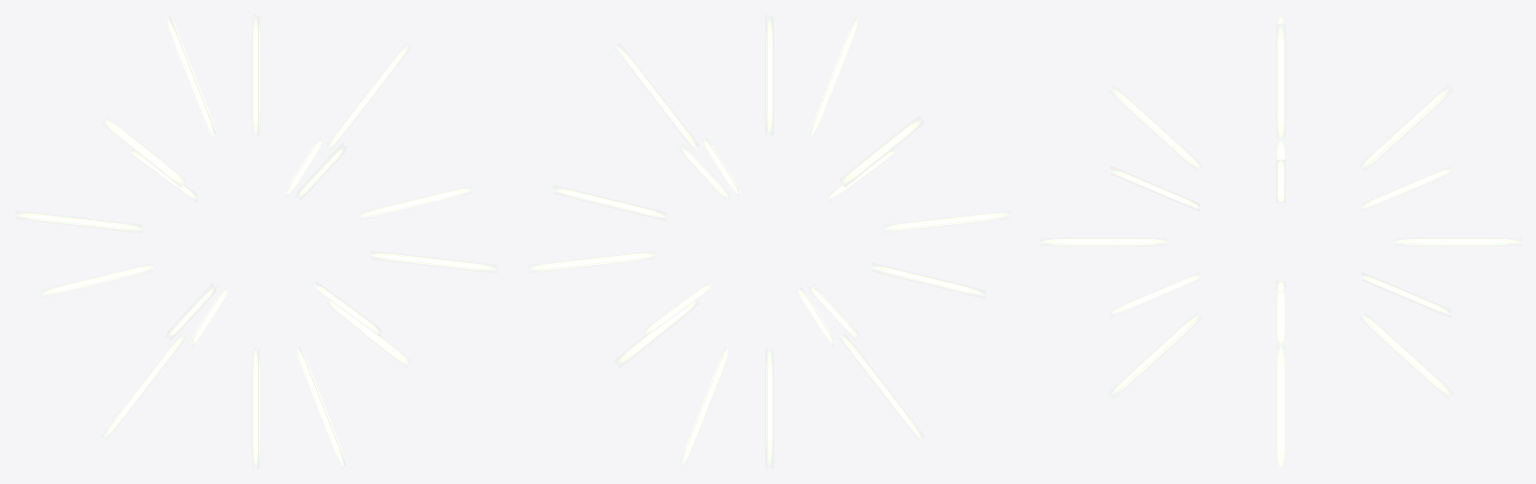
Rendered from sfx_common_charge2_green.glb.
3 renders of one model, left to right at view 1: azimuth 30°, elevation 25°; view 2: azimuth 150°, elevation 25°; view 3: azimuth 270°, elevation 25°, orthographic. The views are drawn at different scales.
Parts seen in each view (by area): view 1: sfx_common_charge2_green_obj16, sfx_common_charge2_green_obj18, sfx_common_charge2_green_obj9, sfx_common_charge2_green_obj12, sfx_common_charge2_green_obj3, sfx_common_charge2_green_obj7, sfx_common_charge2_green_obj4, sfx_common_charge2_green_obj8, sfx_common_charge2_green_obj2, sfx_common_charge2_green_obj1, sfx_common_charge2_green_obj5, sfx_common_charge2_green_obj6 (+5 smaller); view 2: sfx_common_charge2_green_obj15, sfx_common_charge2_green_obj17, sfx_common_charge2_green_obj11, sfx_common_charge2_green_obj14, sfx_common_charge2_green_obj3, sfx_common_charge2_green_obj7, sfx_common_charge2_green_obj4, sfx_common_charge2_green_obj8, sfx_common_charge2_green_obj2, sfx_common_charge2_green_obj1, sfx_common_charge2_green_obj5, sfx_common_charge2_green_obj6 (+5 smaller); view 3: sfx_common_charge2_green_obj10, sfx_common_charge2_green_obj13, sfx_common_charge2_green_obj6, sfx_common_charge2_green_obj9, sfx_common_charge2_green_obj11, sfx_common_charge2_green_obj12, sfx_common_charge2_green_obj14, sfx_common_charge2_green_obj1, sfx_common_charge2_green_obj15, sfx_common_charge2_green_obj16, sfx_common_charge2_green_obj17, sfx_common_charge2_green_obj18 (+1 smaller).
Part boxes in pixels (x1,y1,x2,y2): sfx_common_charge2_green_obj16: (369,250,498,273); sfx_common_charge2_green_obj18: (14,210,143,233); sfx_common_charge2_green_obj9: (164,16,218,136); sfx_common_charge2_green_obj12: (294,347,348,467); sfx_common_charge2_green_obj3: (38,262,156,299); sfx_common_charge2_green_obj7: (356,184,474,221); sfx_common_charge2_green_obj4: (100,333,186,441); sfx_common_charge2_green_obj8: (326,42,412,150); sfx_common_charge2_green_obj2: (100,115,186,187); sfx_common_charge2_green_obj1: (252,14,260,136); sfx_common_charge2_green_obj5: (252,347,260,469); sfx_common_charge2_green_obj6: (326,300,412,368); sfx_common_charge2_green_obj15: (527,250,656,273); sfx_common_charge2_green_obj17: (882,210,1011,233); sfx_common_charge2_green_obj11: (677,347,731,467); sfx_common_charge2_green_obj14: (807,16,861,136); sfx_common_charge2_green_obj3: (869,262,987,299); sfx_common_charge2_green_obj7: (551,184,669,221); sfx_common_charge2_green_obj4: (839,333,925,441); sfx_common_charge2_green_obj8: (613,42,699,150); sfx_common_charge2_green_obj2: (839,115,925,187); sfx_common_charge2_green_obj1: (765,14,773,136); sfx_common_charge2_green_obj5: (765,347,773,469); sfx_common_charge2_green_obj6: (613,300,699,368); sfx_common_charge2_green_obj10: (1395,237,1521,246); sfx_common_charge2_green_obj13: (1040,237,1166,246); sfx_common_charge2_green_obj6: (1276,349,1285,468); sfx_common_charge2_green_obj9: (1358,84,1454,171); sfx_common_charge2_green_obj11: (1358,312,1454,399); sfx_common_charge2_green_obj12: (1107,312,1203,399); sfx_common_charge2_green_obj14: (1107,84,1203,171); sfx_common_charge2_green_obj1: (1276,23,1285,138); sfx_common_charge2_green_obj15: (1359,272,1454,317); sfx_common_charge2_green_obj16: (1107,272,1202,317); sfx_common_charge2_green_obj17: (1107,166,1202,211); sfx_common_charge2_green_obj18: (1359,166,1454,211).
Size of the model in its own units: 4.43 by 4.43 by 4.43.
Materials: 1 (1 with a texture image).
